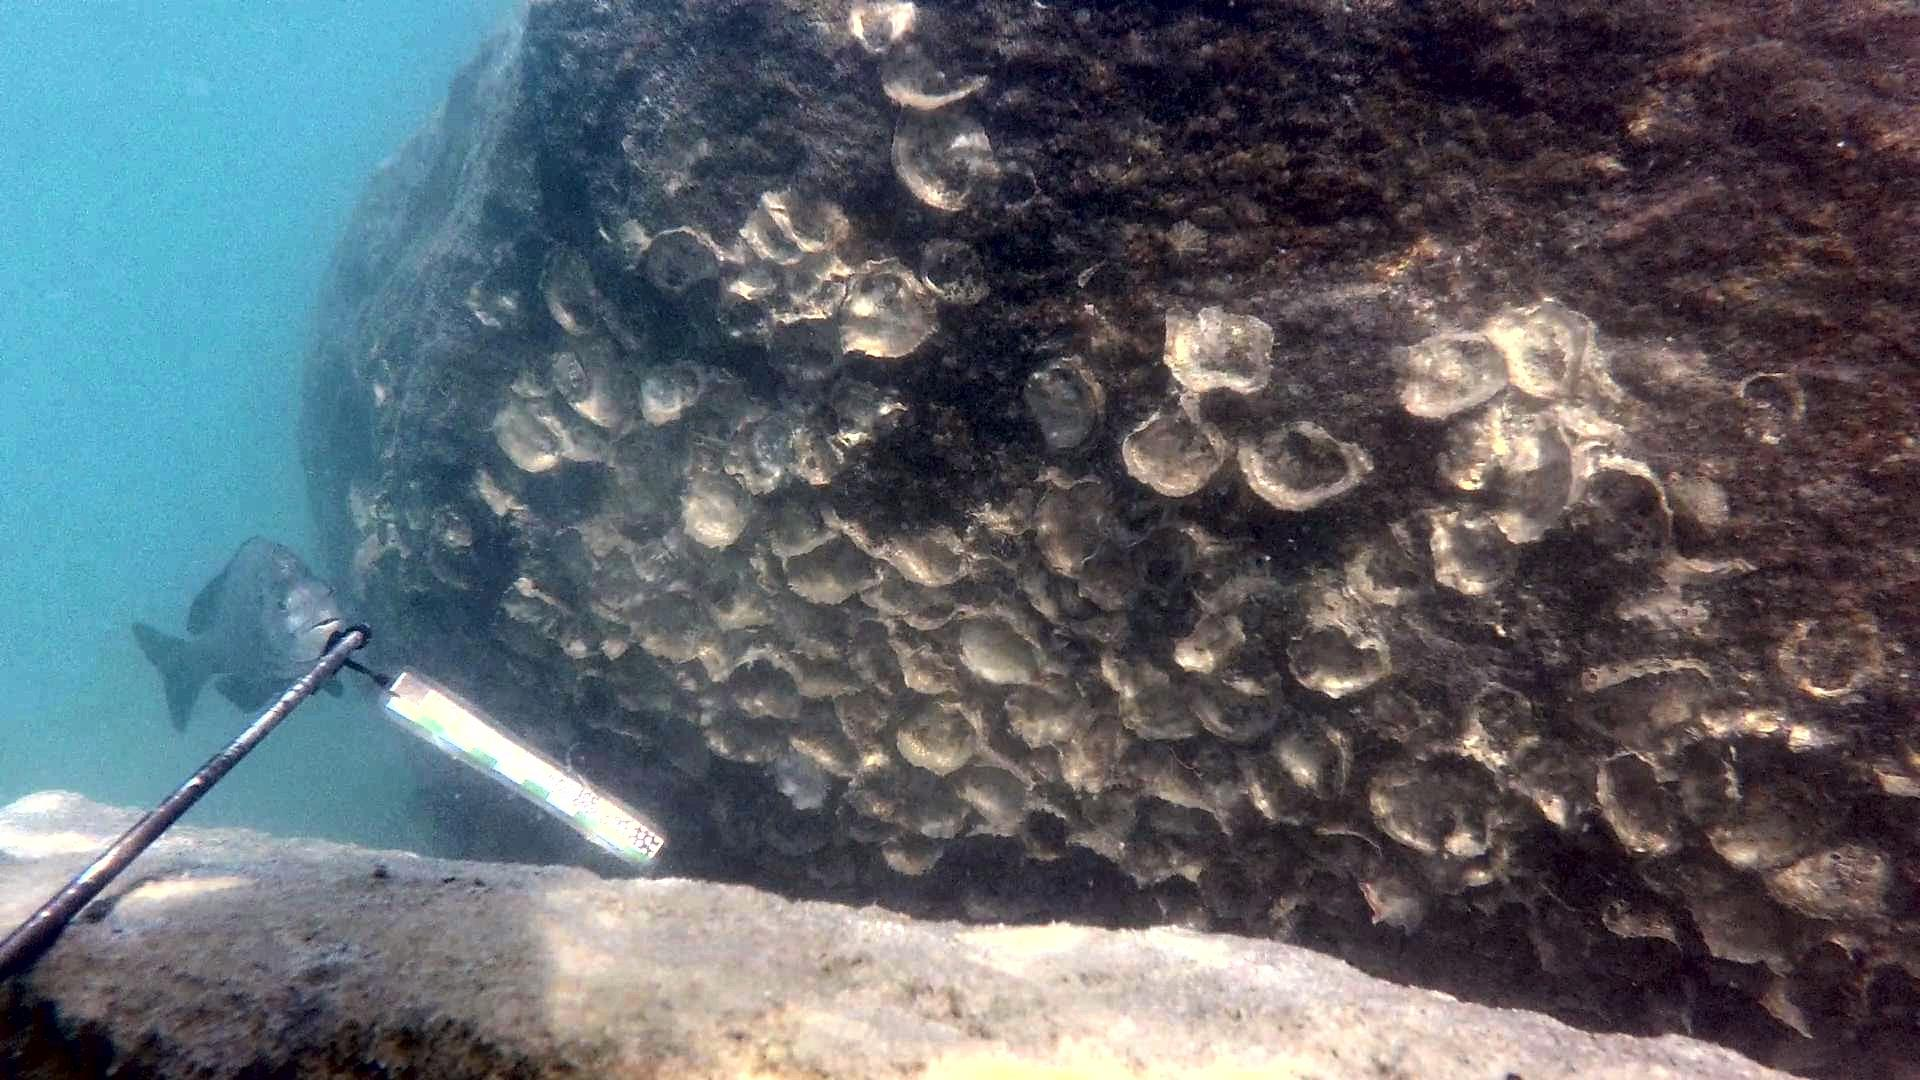acanthopagrus palmaris: (129, 526, 361, 746)
